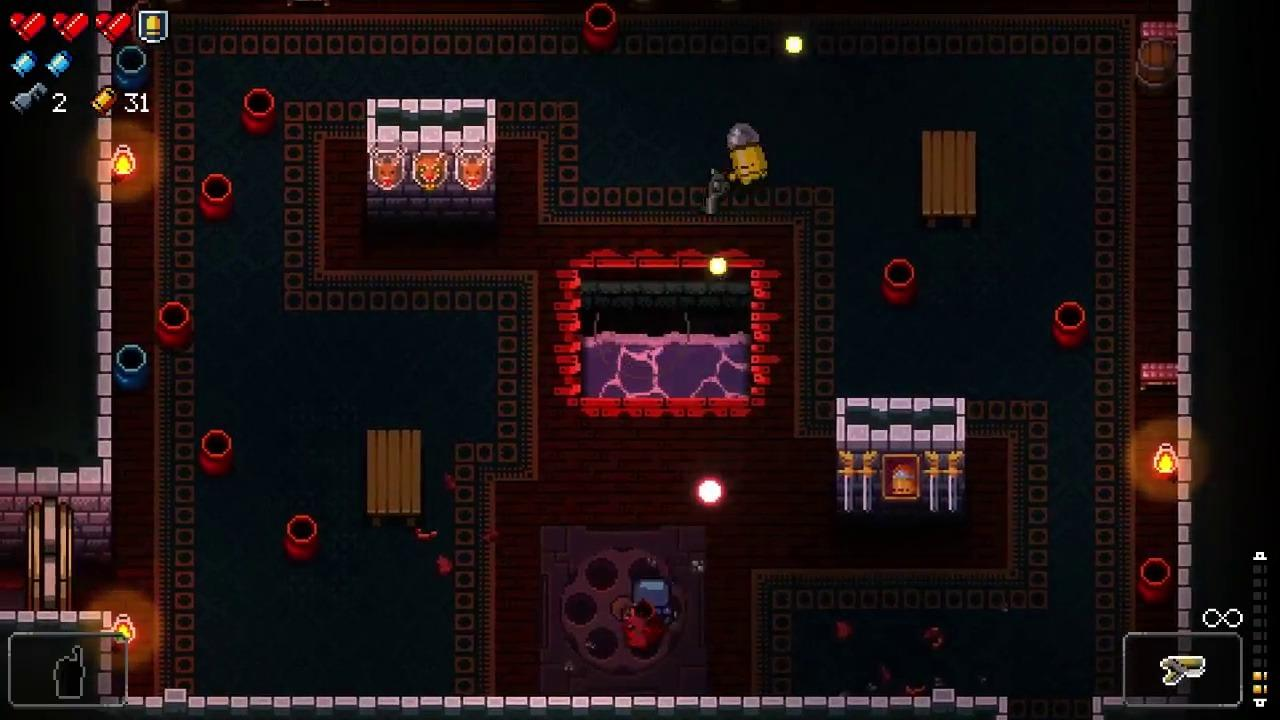bullet: (695, 476, 724, 507)
bullet_kin: (727, 123, 769, 185)
locked_door: (28, 496, 73, 610)
player: (631, 577, 669, 636)
table: (367, 429, 421, 527), (923, 131, 977, 227)
teleporter: (539, 524, 708, 694)
water_pit: (552, 247, 780, 418)
